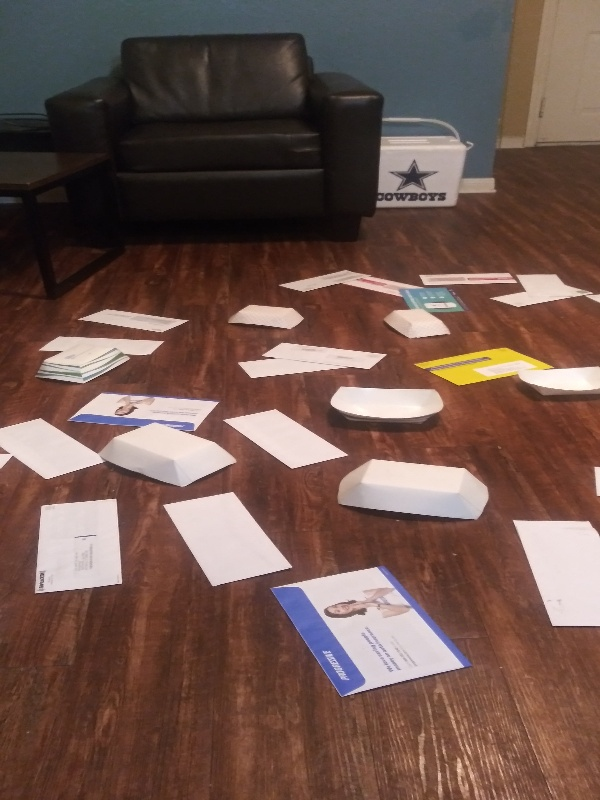plate: (333, 456, 494, 528), (94, 420, 241, 492), (327, 384, 448, 431), (31, 340, 133, 387), (513, 362, 600, 401), (224, 301, 305, 335), (379, 307, 454, 342)
